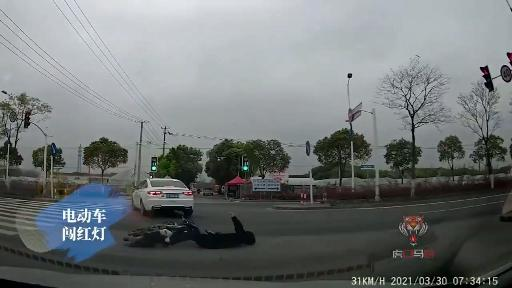Accident: (117, 209, 259, 258)
CAR: (131, 172, 203, 219)
